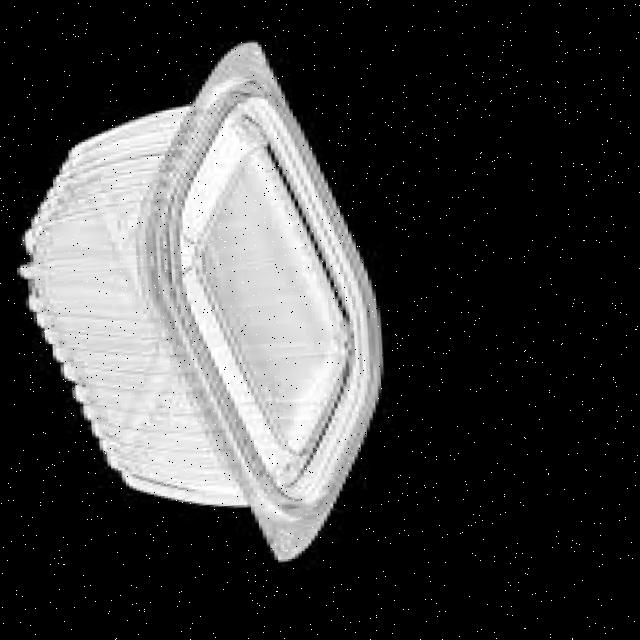disposable: (3, 50, 435, 580)
